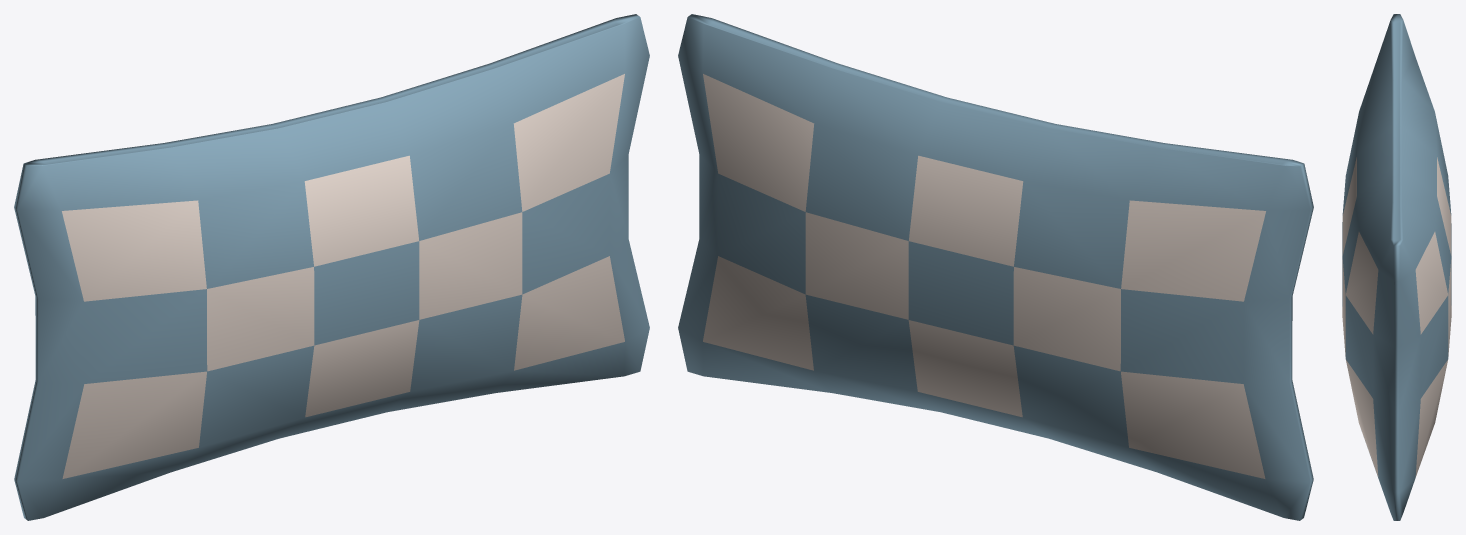
Rendered from Pillow_5.glb.
3 views of the same model, side by side, from view 1: azimuth 30°, elevation 25°; view 2: azimuth 150°, elevation 25°; view 3: azimuth 270°, elevation 25° (orthographic). The views are drawn at different scales.
Visible parts, largest first — view 1: Pillow_5; view 2: Pillow_5; view 3: Pillow_5.
Part boxes in pixels (x1,y1,x2,y2): Pillow_5: (14, 14, 649, 520); Pillow_5: (678, 14, 1313, 520); Pillow_5: (1342, 14, 1451, 520).
Bounding box in the file's own units: 1.05 × 0.5619 × 0.2022.
Materials: 1 (1 with a texture image).
